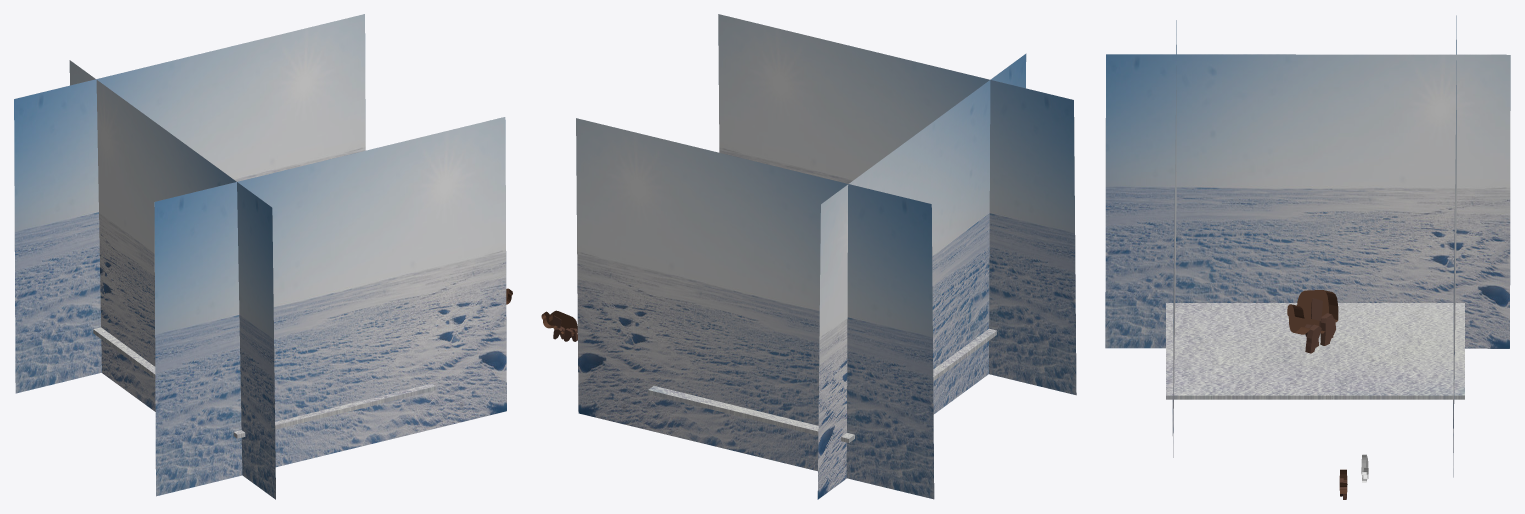
The model's file is mejiaBROWNELEPHANT.glb.
The picture shows the model from 3 angles, left to right: view 1: azimuth 30°, elevation 25°; view 2: azimuth 150°, elevation 25°; view 3: azimuth 270°, elevation 25°; orthographic projection.
Visible parts, largest first — view 1: Plane.002, Plane.001, Plane.004, Plane.006; view 2: Plane.001, Plane.002, Plane.004, Plane.006, Plane.003; view 3: Plane.004, Plane.006, Plane.005, Plane.002, Plane.001.
Part boxes in pixels (box(x1,y1,x2,y2)): Plane.002: box(154, 117, 506, 496); Plane.001: box(14, 14, 365, 393); Plane.004: box(69, 60, 275, 499); Plane.006: box(93, 327, 435, 438); Plane.001: box(576, 118, 934, 499); Plane.002: box(718, 14, 1076, 395); Plane.004: box(817, 53, 1026, 499); Plane.006: box(648, 328, 996, 442); Plane.003: box(541, 310, 577, 341); Plane.004: box(1105, 54, 1510, 348); Plane.006: box(1166, 303, 1464, 399); Plane.005: box(1287, 290, 1338, 353); Plane.002: box(1172, 20, 1176, 457); Plane.001: box(1453, 15, 1456, 477).
Bounding box in the file's own units: 40.15 × 25.55 × 32.02.
7 materials, 7 textured.
